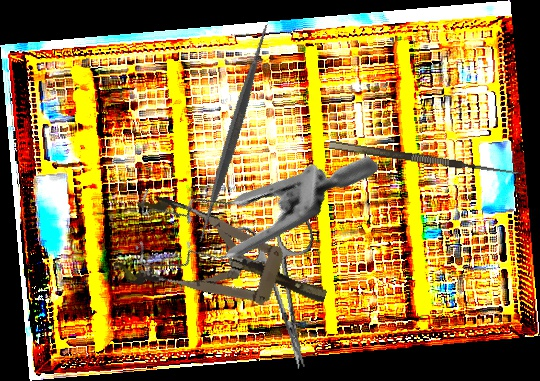Hook Surgical: (328, 129, 527, 180)
Iris Scissors: (221, 211, 342, 379)
Spatula Surgical: (120, 20, 346, 247)
Speculum: (107, 60, 381, 341), (110, 189, 339, 342)
